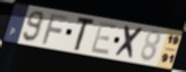8: (140, 29, 164, 64)
9: (21, 10, 46, 43)
E: (89, 21, 119, 56)
F: (40, 12, 71, 46)
T: (72, 17, 97, 52)
X: (113, 24, 146, 62)
